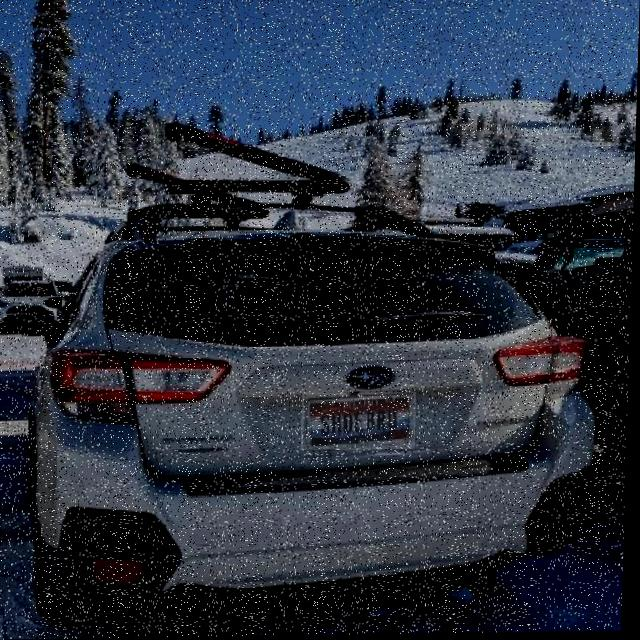LicensePlate: (305, 393, 418, 451)
